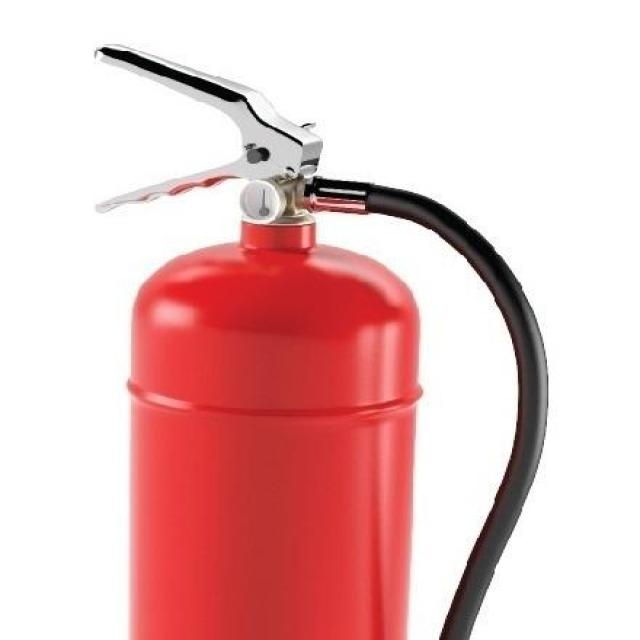fire_extinguisher: (82, 36, 551, 639)
